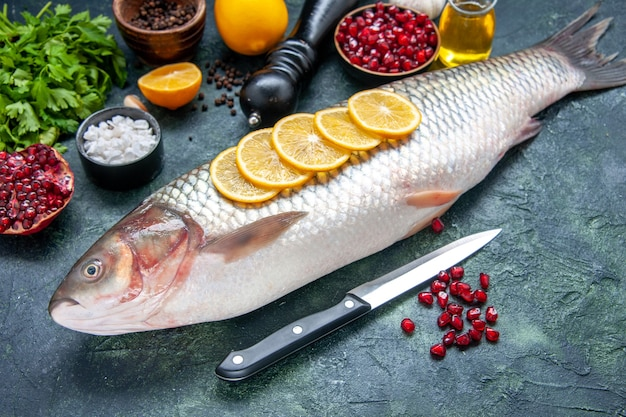knife: (214, 227, 503, 382)
